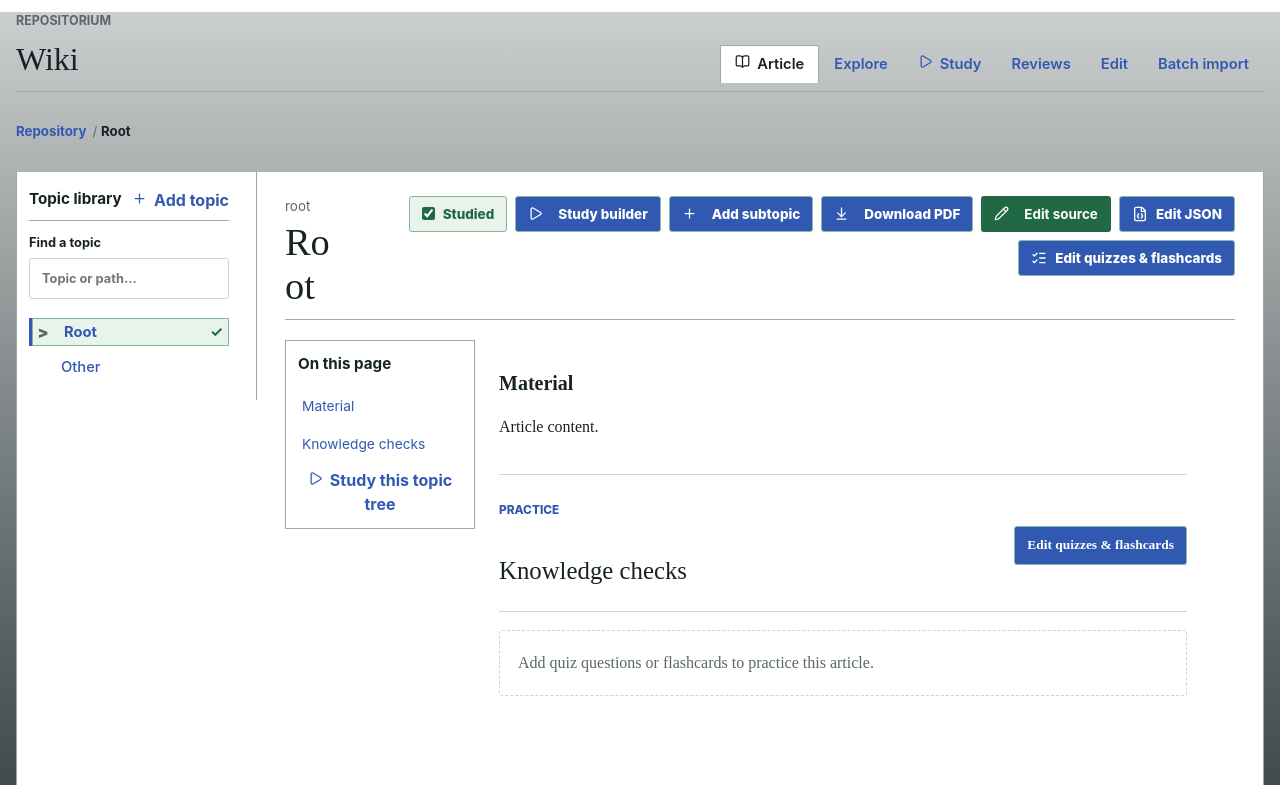
Test: preserves the saved status on failure and allows retrying
The image size is (1280, 785).
Click the checkbox labelled "Studied" at coordinates (428, 214), box [422,207,435,220]
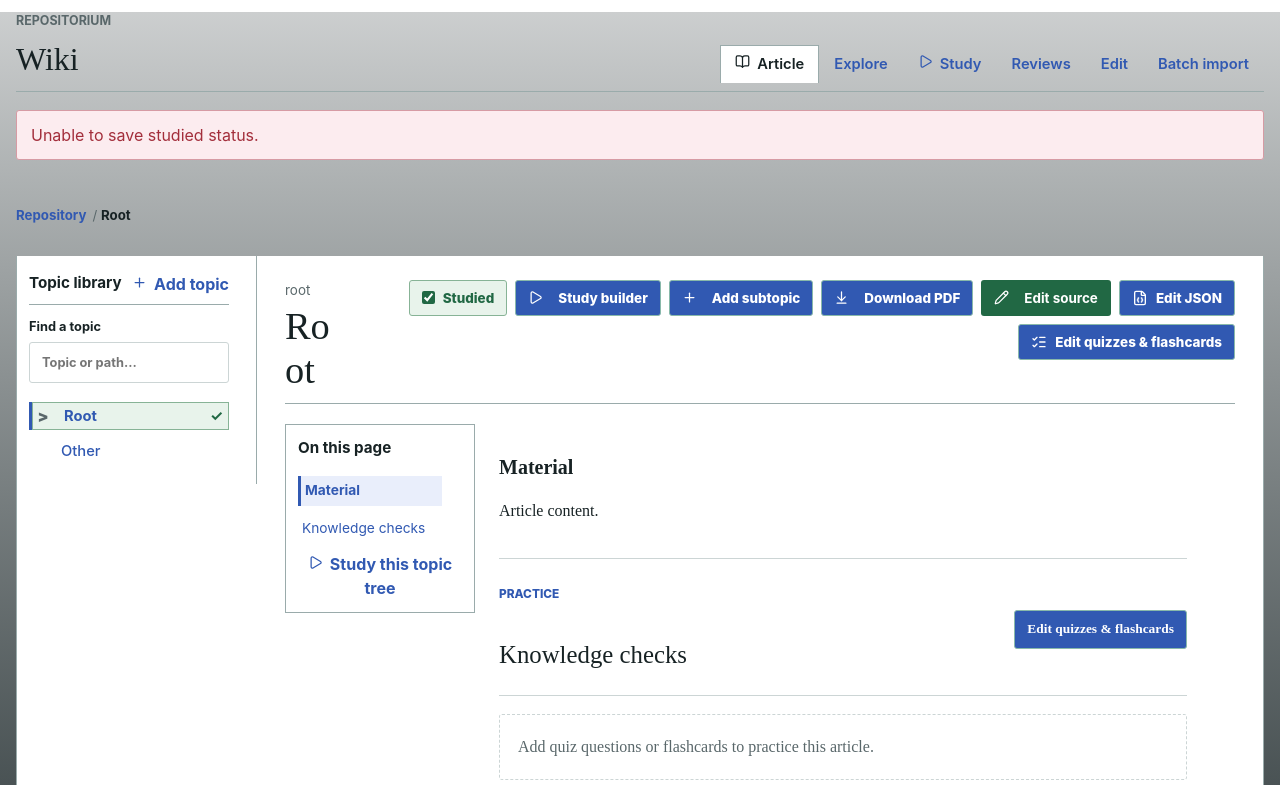
Now the message reads "Unable to save studied status.", box [31,125,259,145]
Click the checkbox labelled "Studied" at coordinates (428, 298), box [422,291,435,304]
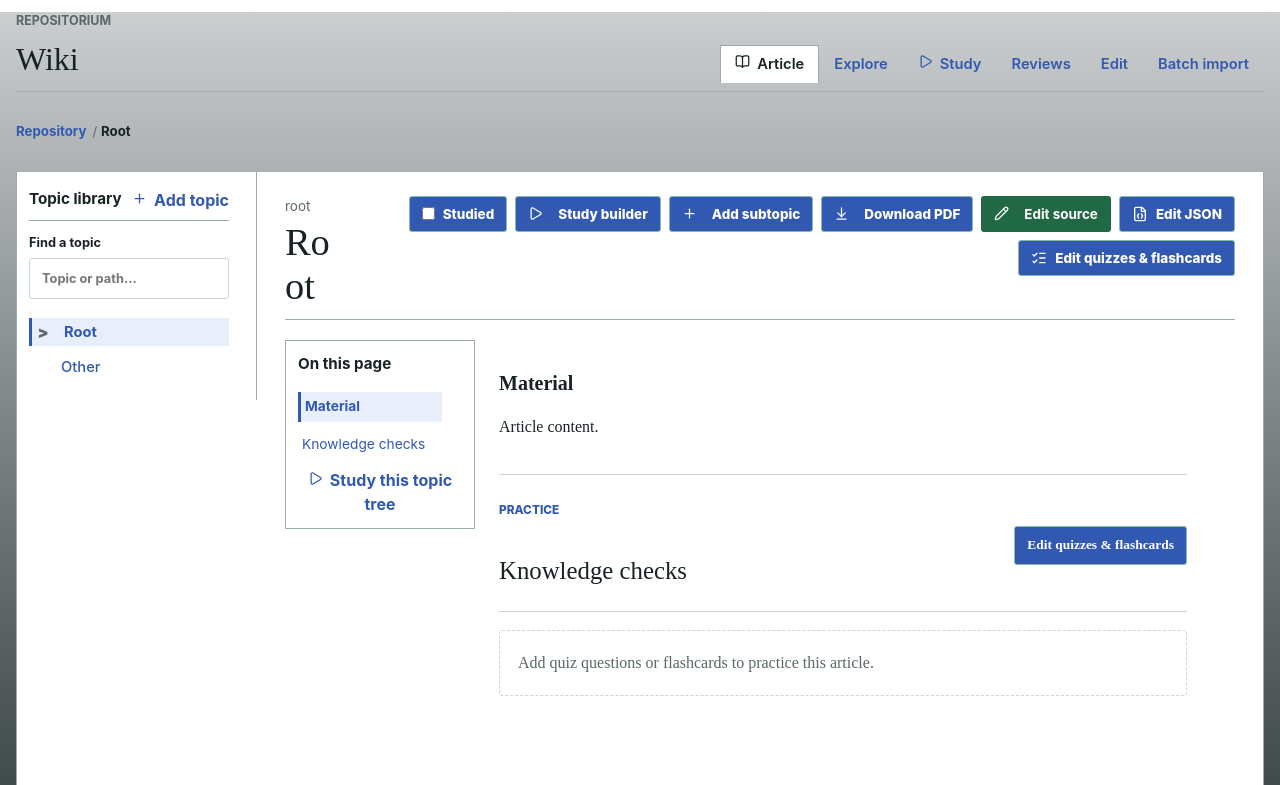
Now the checkbox labelled "Studied" is not checked, box [422,207,435,220]
Now the message "Unable to save studied status." is gone
